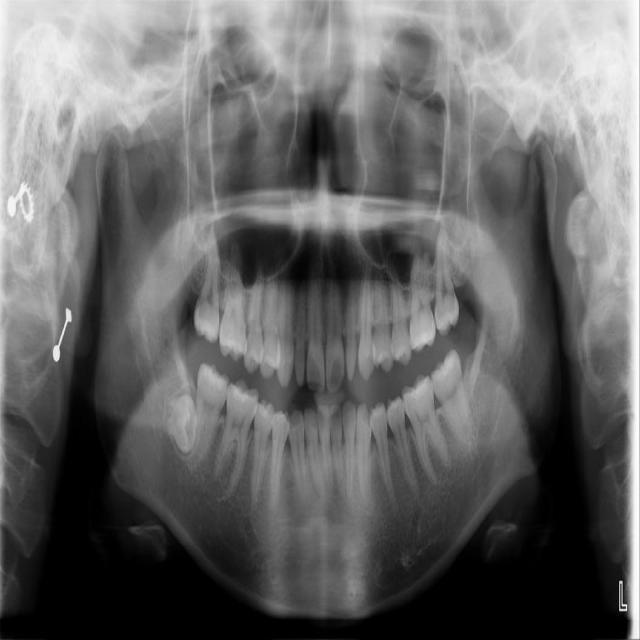impacted tooth: (155, 392, 193, 451)
